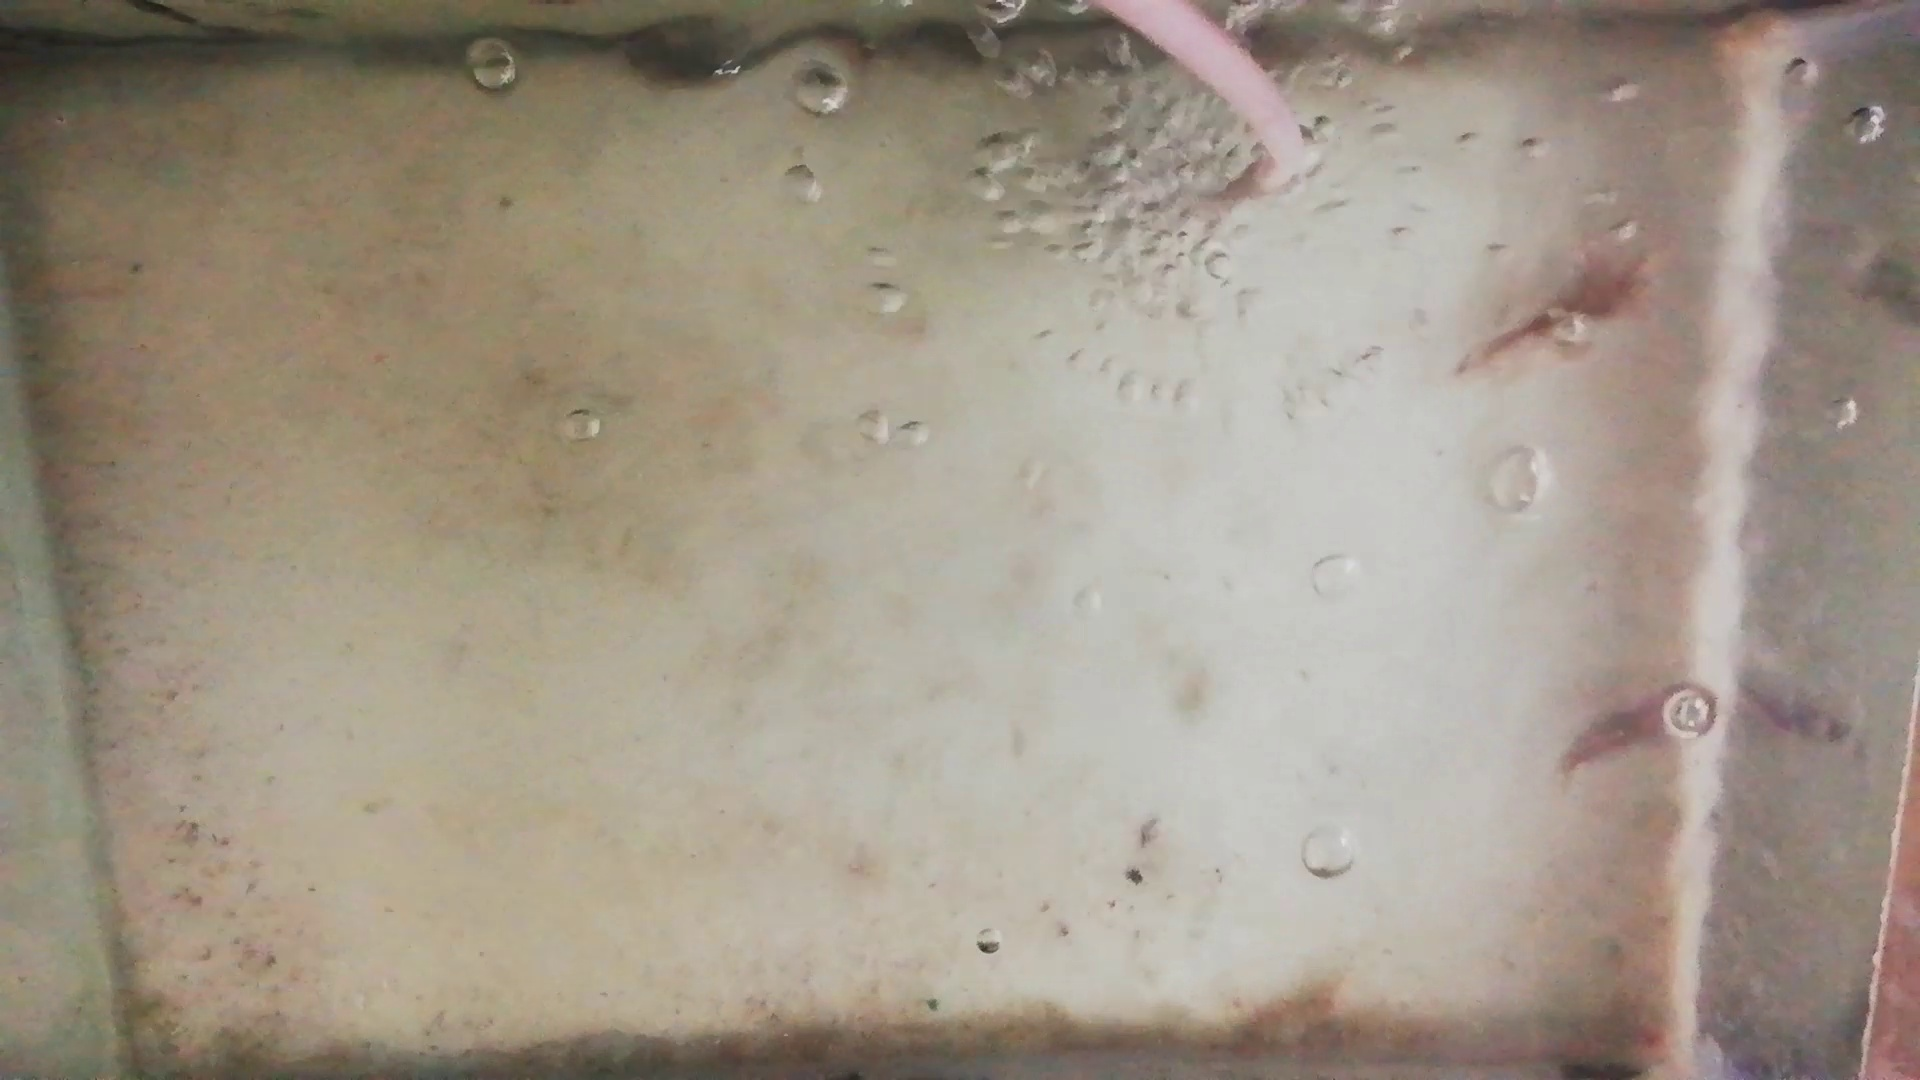fish: (1466, 252, 1656, 367), (1560, 682, 1717, 774)
